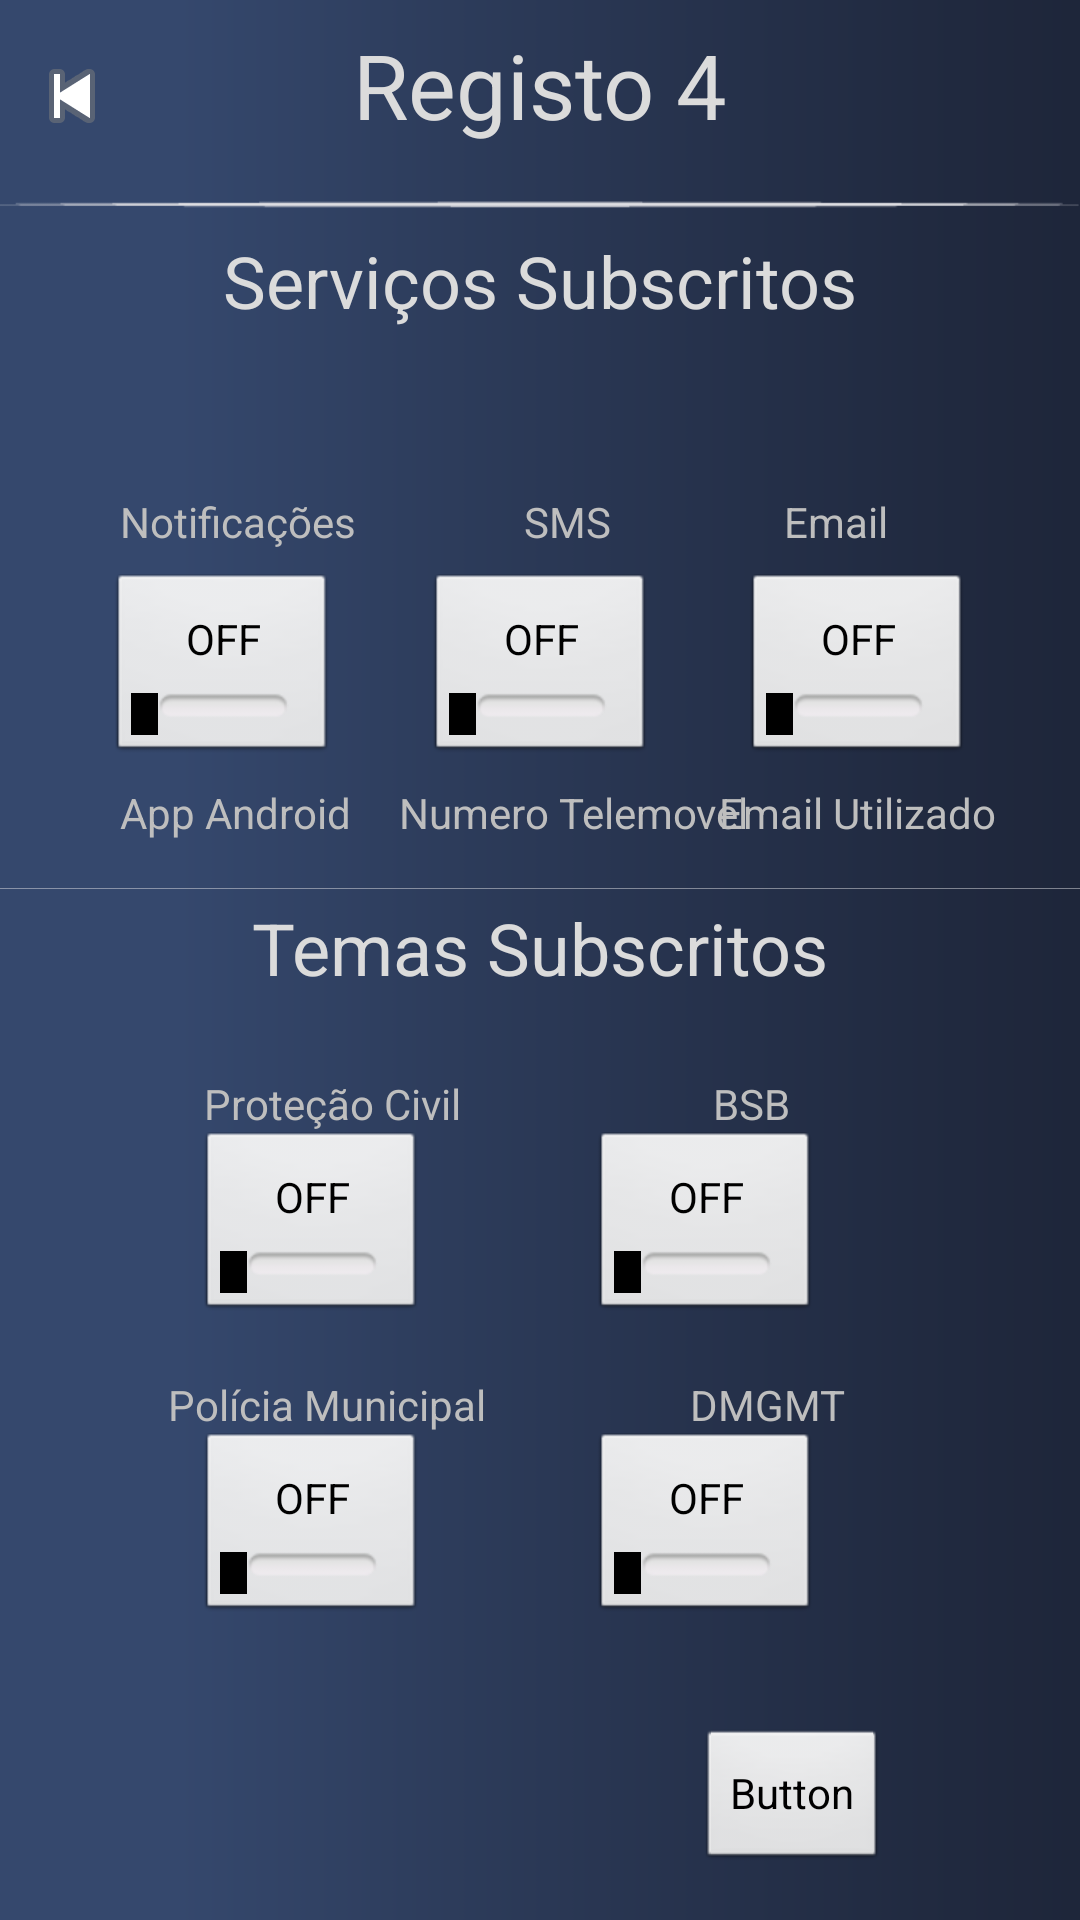

Point at icon controls on the screen. Image size 1080w x 1920h, points as point (x, y).
previous: point (72, 96)
